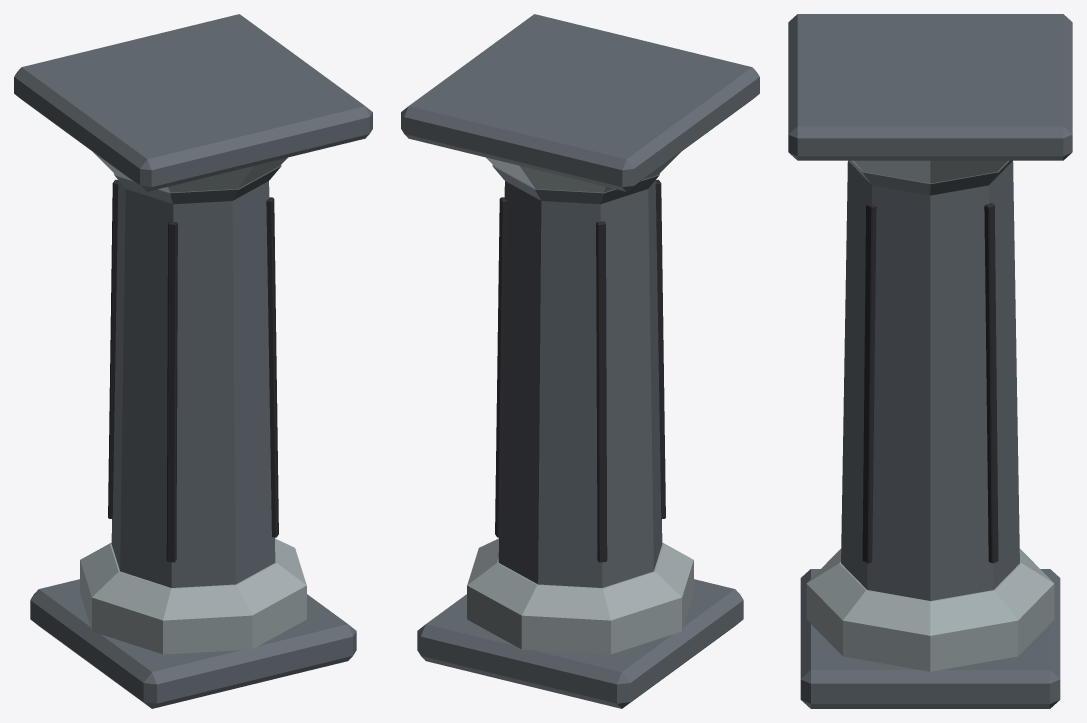
Rendered from 04_Octagonal_Pillar.glb.
3 views of the same model, side by side, from view 1: azimuth 30°, elevation 25°; view 2: azimuth 150°, elevation 25°; view 3: azimuth 270°, elevation 25° (orthographic). The views are drawn at different scales.
Parts seen in each view (by area): view 1: 04_Octagonal_Pillar__Body; view 2: 04_Octagonal_Pillar__Body; view 3: 04_Octagonal_Pillar__Body.
Part boxes in pixels (left/top/right/bottom): 04_Octagonal_Pillar__Body: left=14, top=14, right=372, bottom=708; 04_Octagonal_Pillar__Body: left=401, top=14, right=759, bottom=708; 04_Octagonal_Pillar__Body: left=788, top=14, right=1072, bottom=708.
Bounding box in the file's own units: 1.65 × 3.77 × 1.65.
Materials: 1 (1 with a texture image).
